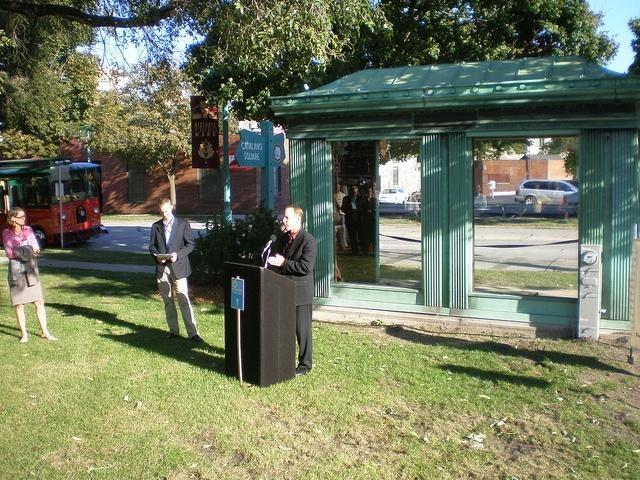bus: (0, 162, 102, 253)
car: (514, 178, 580, 205), (378, 188, 410, 204)
